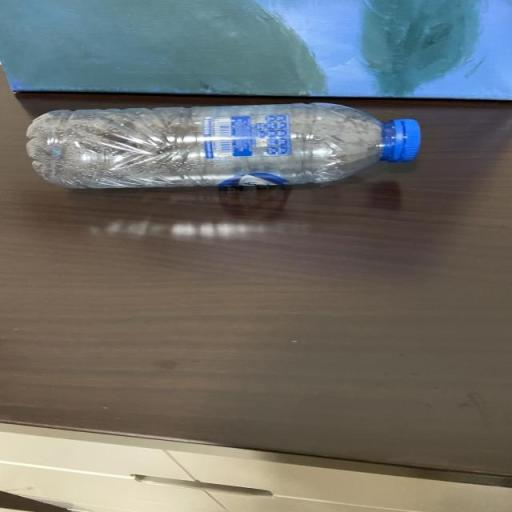plastic: (21, 100, 423, 191)
